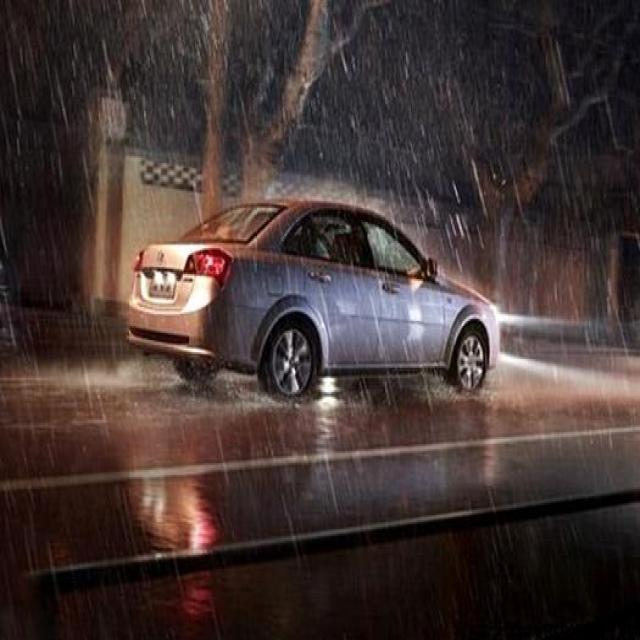car: (127, 198, 497, 399)
